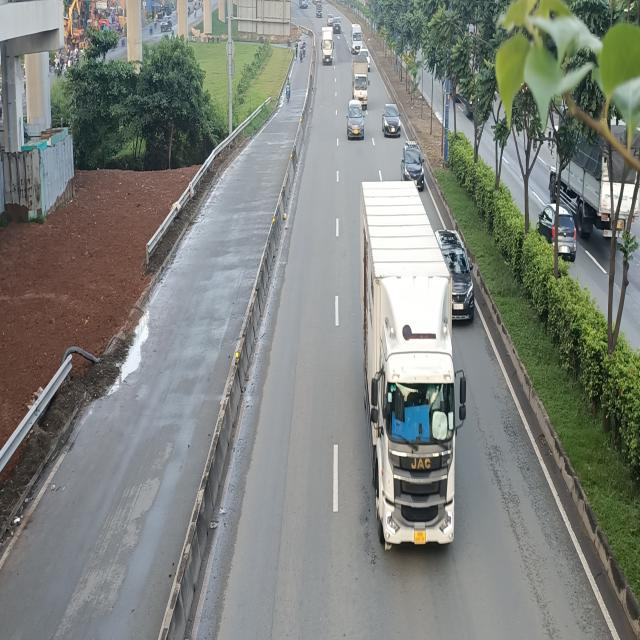car: (402, 142, 426, 192), (382, 102, 402, 136)
container: (364, 182, 469, 554)
truck: (352, 59, 370, 112), (321, 27, 334, 66)
